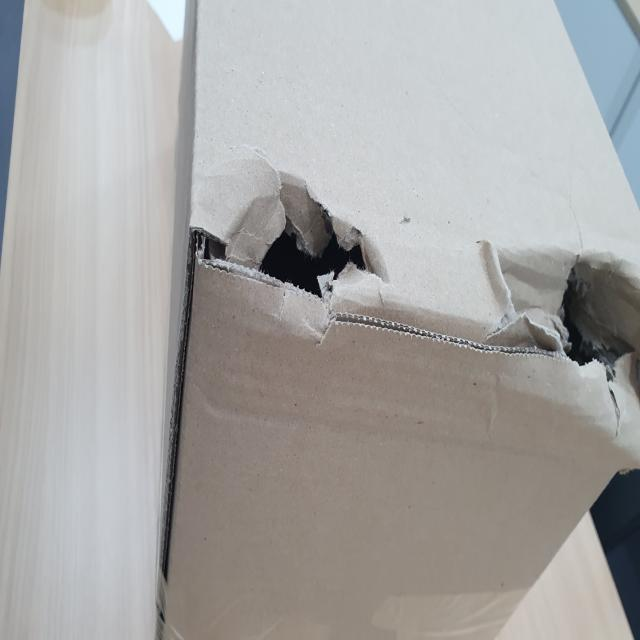hole: (197, 191, 378, 333), (536, 256, 640, 418)
